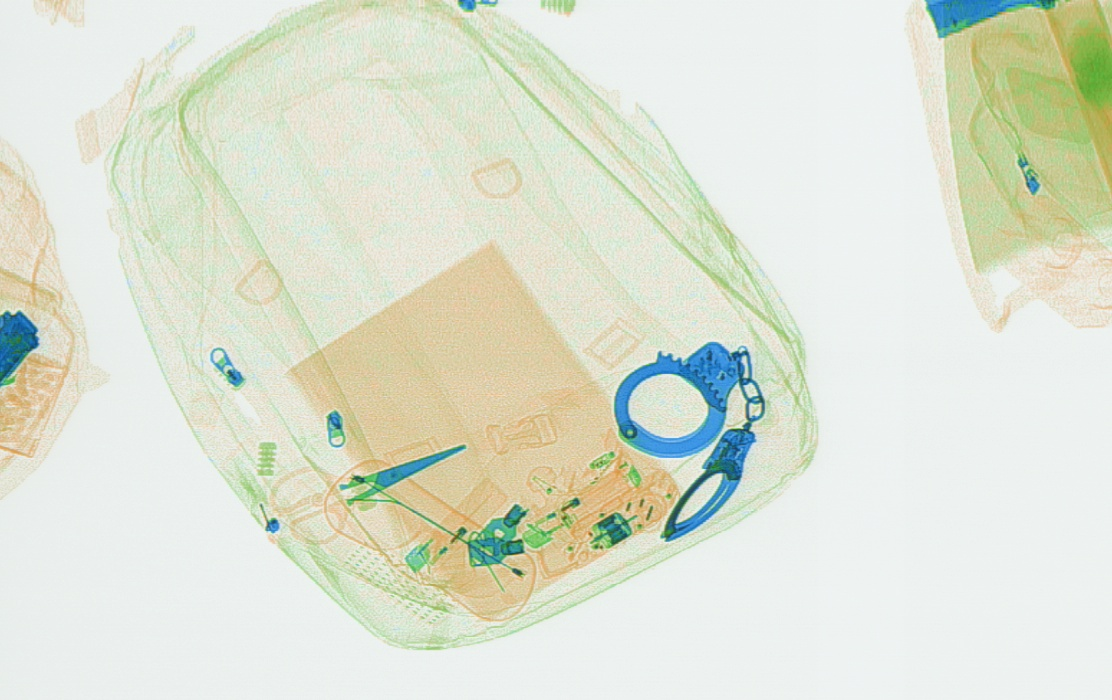handcuffs: (612, 340, 768, 542)
lighter: (402, 479, 508, 573), (517, 471, 634, 548)
scissors: (267, 443, 467, 545)
